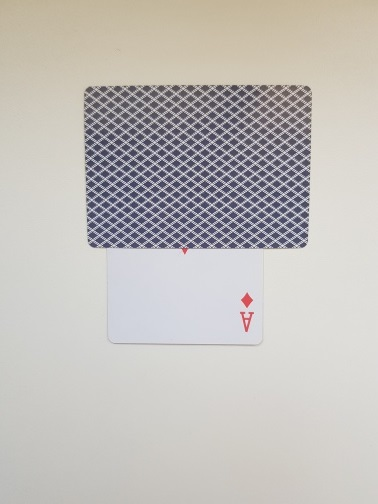ace: (106, 111, 266, 347)
